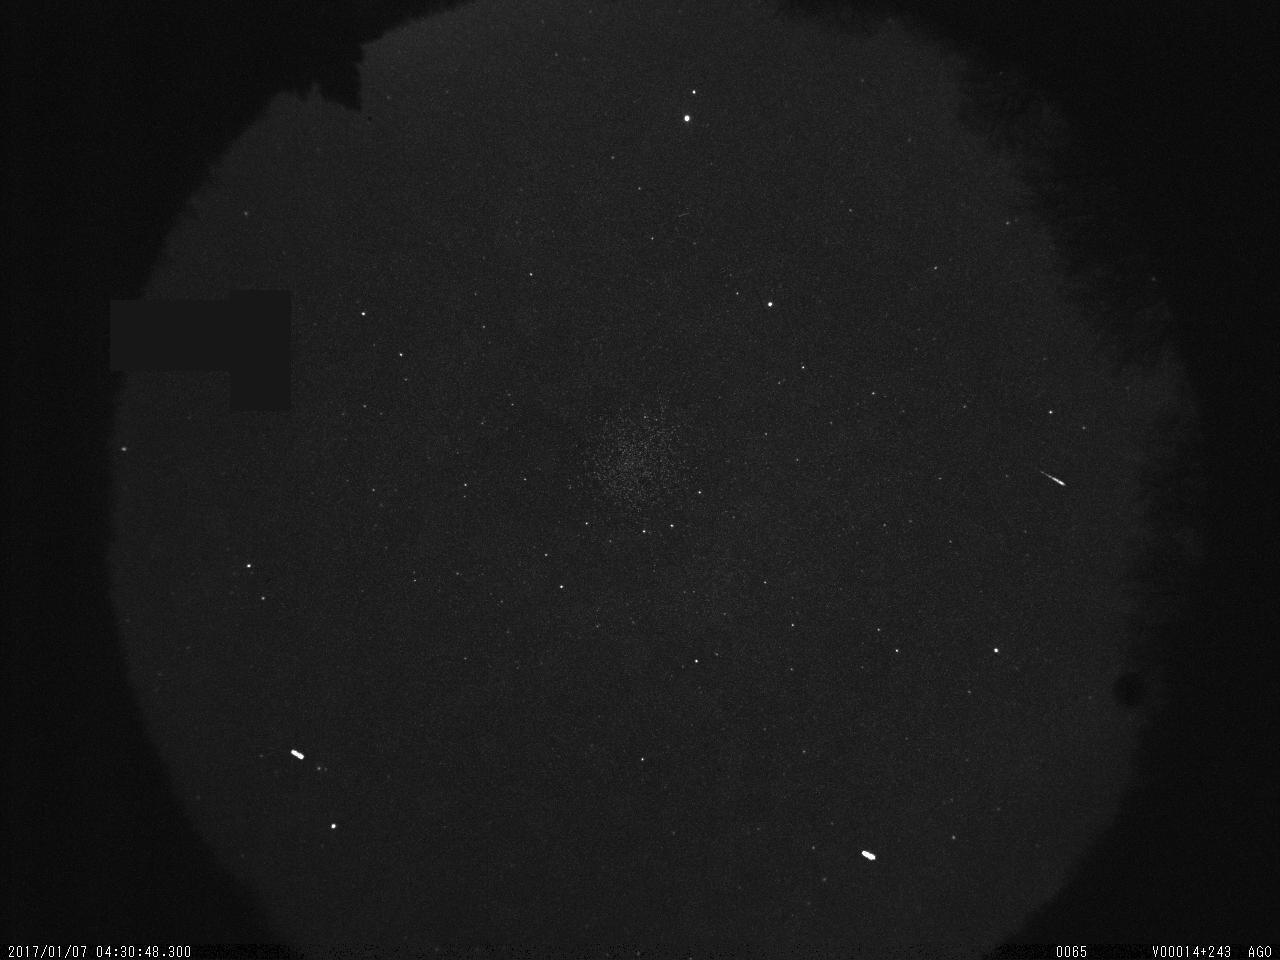Meteor: (1038, 468, 1067, 487), (859, 848, 877, 862)
